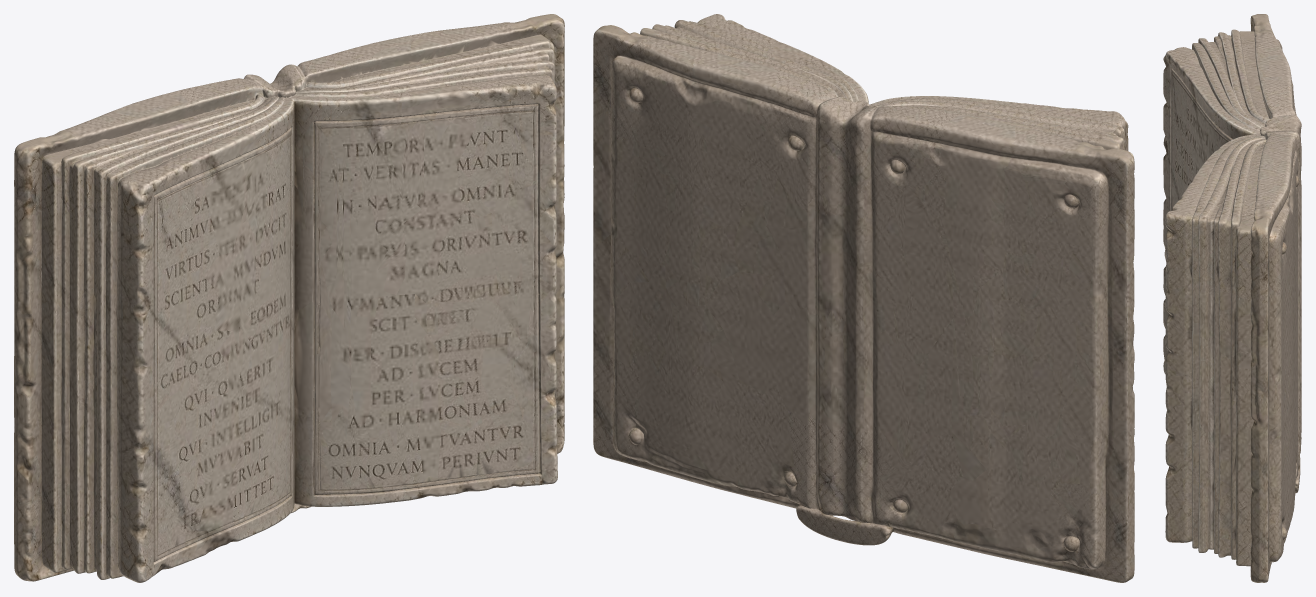
File: repository-book.glb
3 renders of one model, left to right at view 1: azimuth 30°, elevation 25°; view 2: azimuth 150°, elevation 25°; view 3: azimuth 270°, elevation 25°, orthographic. The views are drawn at different scales.
Size of the model in its own units: 1.9 by 1.47 by 0.5083.
1 material, 1 textured.
